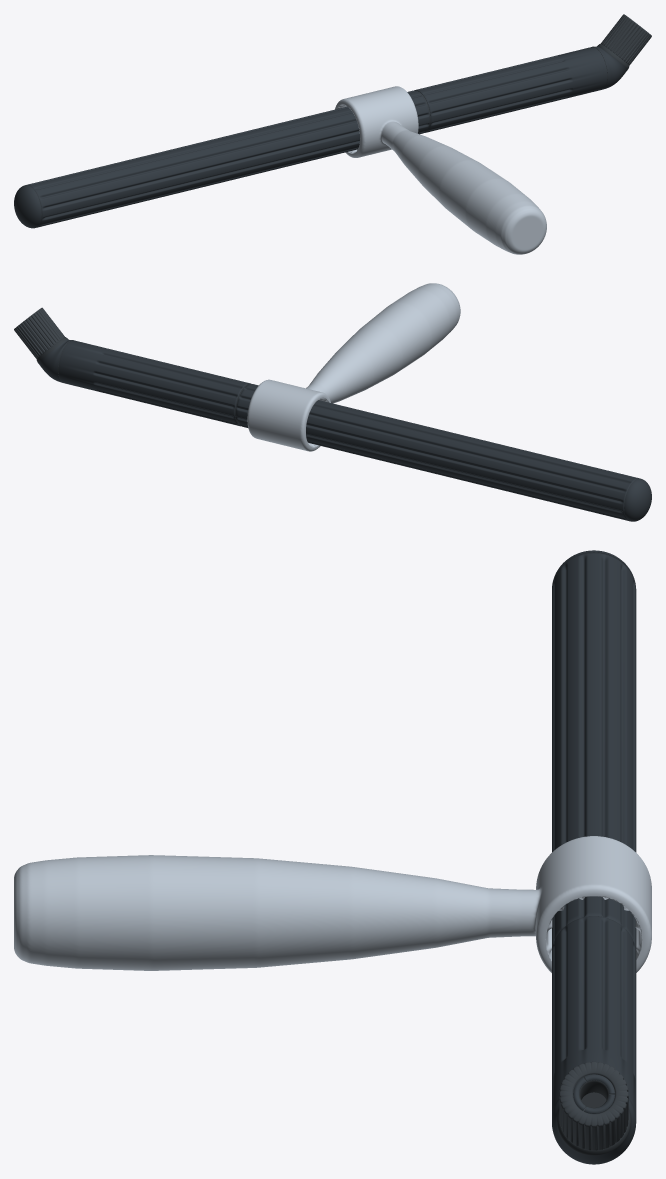
Rendered from file-handi-45-degrees-pale-blue-grey.glb.
3 renders of one model, top to bottom at view 1: azimuth 30°, elevation 25°; view 2: azimuth 150°, elevation 25°; view 3: azimuth 270°, elevation 25°, orthographic. The views are drawn at different scales.
Parts seen in each view (by area): view 1: 03 | Long fluted handle, 11 | Rubberized transverse handle, 05 | Short fluted front grip, 09 | Straight knurled tip and blind socket, 01 | Rounded rear cap, 07 | Rounded elbow - 45 deg axis angle; view 2: 03 | Long fluted handle, 11 | Rubberized transverse handle, 05 | Short fluted front grip, 09 | Straight knurled tip and blind socket, 01 | Rounded rear cap, 07 | Rounded elbow - 45 deg axis angle; view 3: 11 | Rubberized transverse handle, 03 | Long fluted handle, 05 | Short fluted front grip, 09 | Straight knurled tip and blind socket, 07 | Rounded elbow - 45 deg axis angle.
Part boxes in pixels (bbox=[...]): 03 | Long fluted handle: bbox=[27, 90, 429, 227]; 11 | Rubberized transverse handle: bbox=[335, 86, 546, 254]; 05 | Short fluted front grip: bbox=[414, 47, 606, 132]; 09 | Straight knurled tip and blind socket: bbox=[601, 14, 651, 65]; 01 | Rounded rear cap: bbox=[14, 185, 41, 228]; 07 | Rounded elbow - 45 deg axis angle: bbox=[591, 46, 627, 89]; 03 | Long fluted handle: bbox=[236, 384, 638, 520]; 11 | Rubberized transverse handle: bbox=[247, 283, 460, 451]; 05 | Short fluted front grip: bbox=[59, 340, 251, 426]; 09 | Straight knurled tip and blind socket: bbox=[14, 307, 64, 358]; 01 | Rounded rear cap: bbox=[624, 478, 651, 521]; 07 | Rounded elbow - 45 deg axis angle: bbox=[38, 339, 74, 382]; 11 | Rubberized transverse handle: bbox=[14, 836, 651, 972]; 03 | Long fluted handle: bbox=[552, 553, 636, 952]; 05 | Short fluted front grip: bbox=[552, 916, 636, 1116]; 09 | Straight knurled tip and blind socket: bbox=[559, 1061, 628, 1150]; 07 | Rounded elbow - 45 deg axis angle: bbox=[552, 1097, 636, 1164].
Size of the model in its own units: 0.1321 by 0.0144 by 0.0605.
